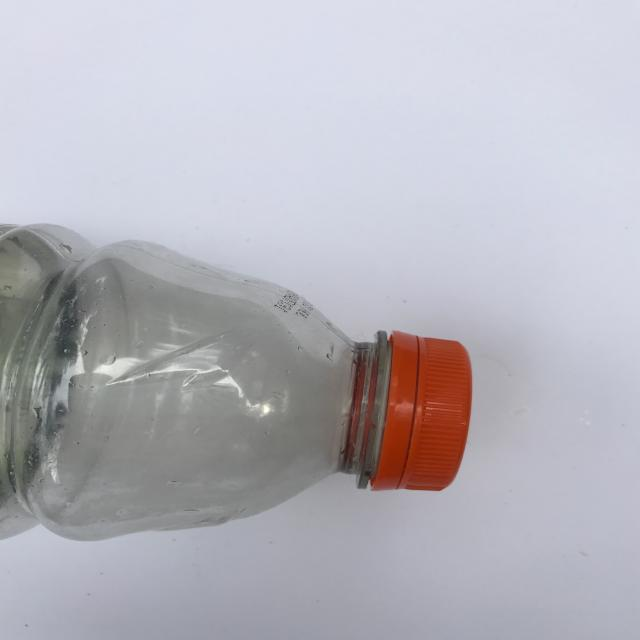plastic: (0, 222, 473, 543)
